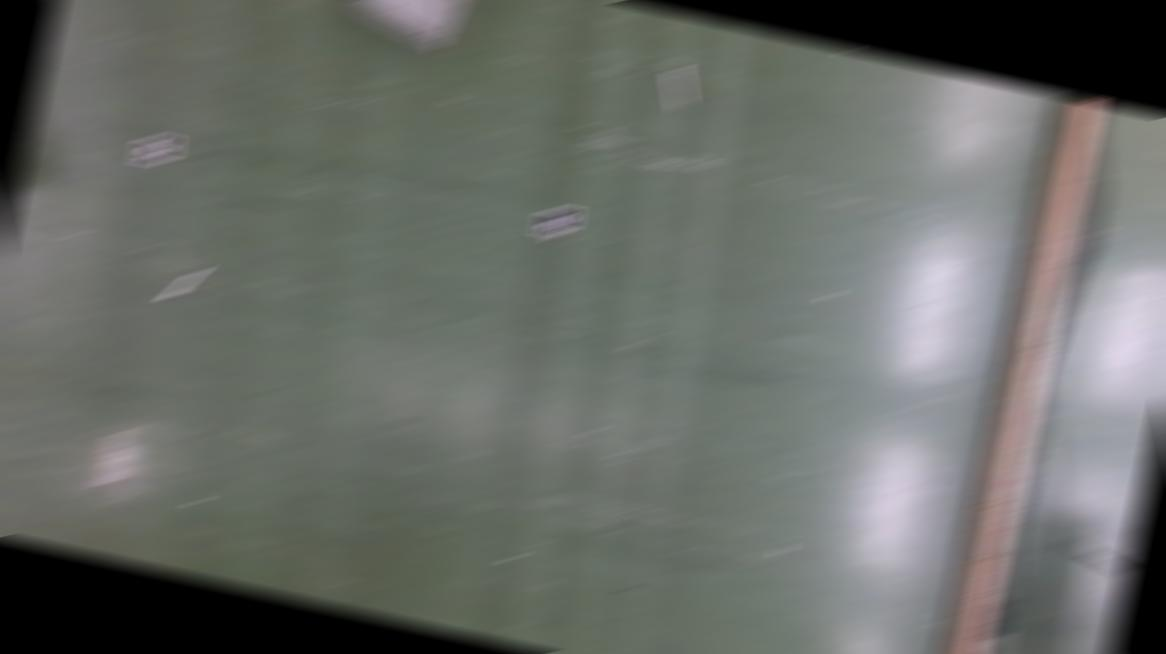probes: (160, 264, 206, 304), (658, 68, 695, 110)
rako: (332, 1, 487, 54)
